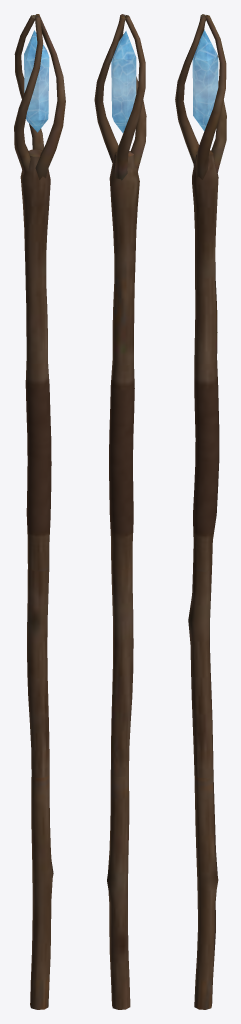
3 views of the same model, side by side, from view 1: azimuth 30°, elevation 25°; view 2: azimuth 210°, elevation 25°; view 3: azimuth 330°, elevation 25° (orthographic).
Visible parts, largest first — view 1: variant_0; view 2: variant_0; view 3: variant_0.
Boxes of the visible parts, x1,y1,x2,y2 form: variant_0: (14, 14, 65, 1009); variant_0: (94, 14, 146, 1009); variant_0: (175, 14, 226, 1009).
Size of the model in its own units: 0.0874 by 1.71 by 0.081.
2 materials, 2 textured.
